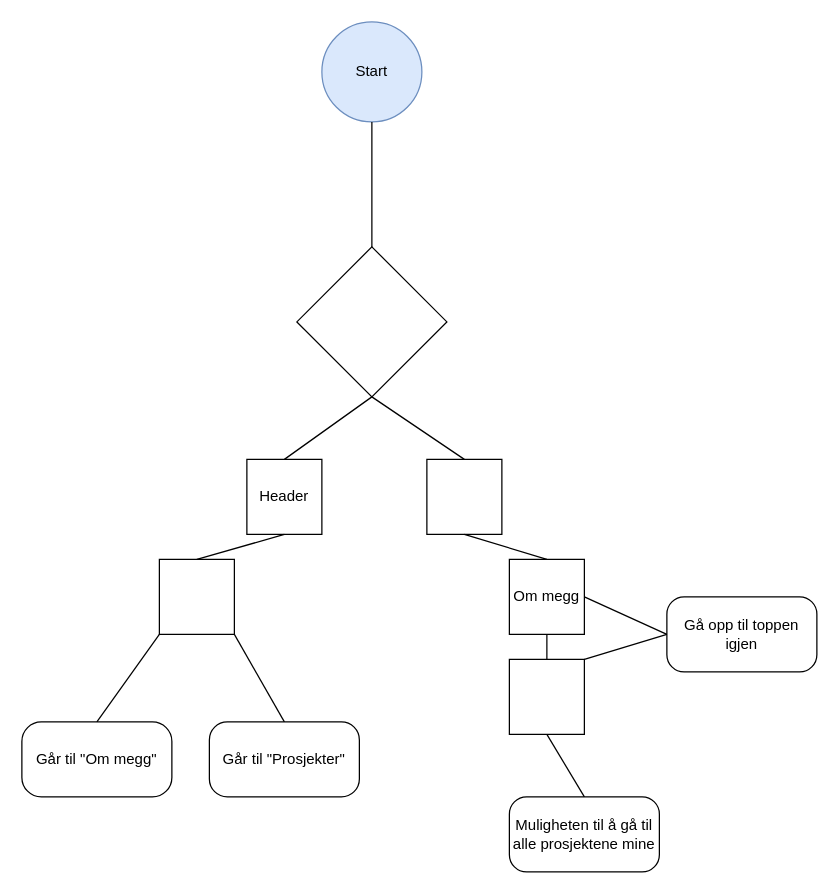
Some shapes in this 839 by 894 pixel diagram are drawn without their labels. Here are the shapes that lost their labels. From the top down, the centre of each, then its label:
(x=371, y=321): Forside
(x=464, y=496): Main content
(x=196, y=596): Knapper
(x=546, y=696): Prosjekter
